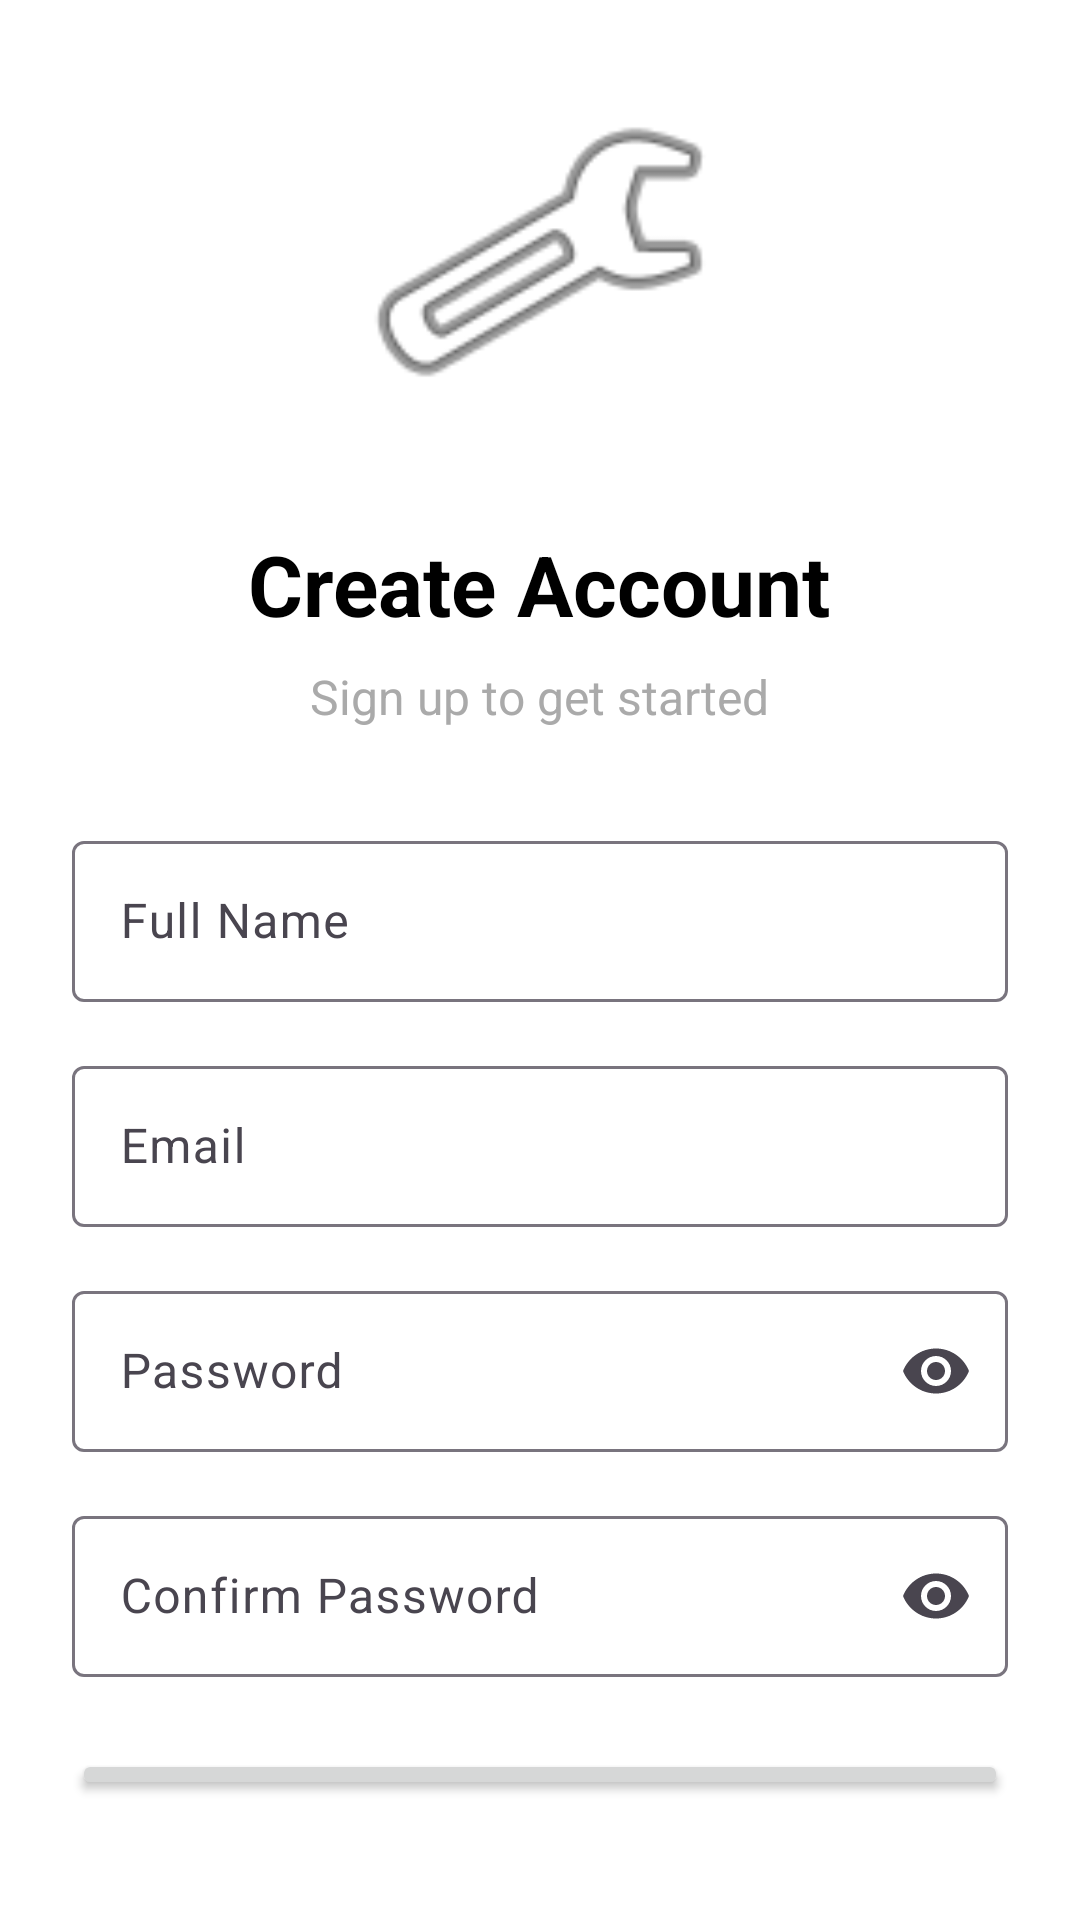

Where icons sit on this 1080px×1920px app screen, as [left=x1, top=y1, right=x2, bottom=y2]:
manage: [left=377, top=128, right=703, bottom=376]
